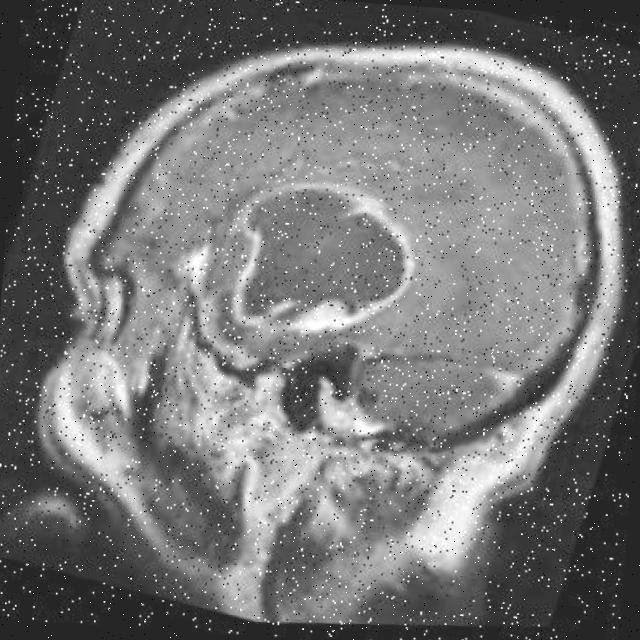EMCI: (234, 184, 453, 356)
